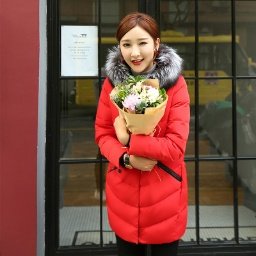face: (115, 10, 168, 84)
